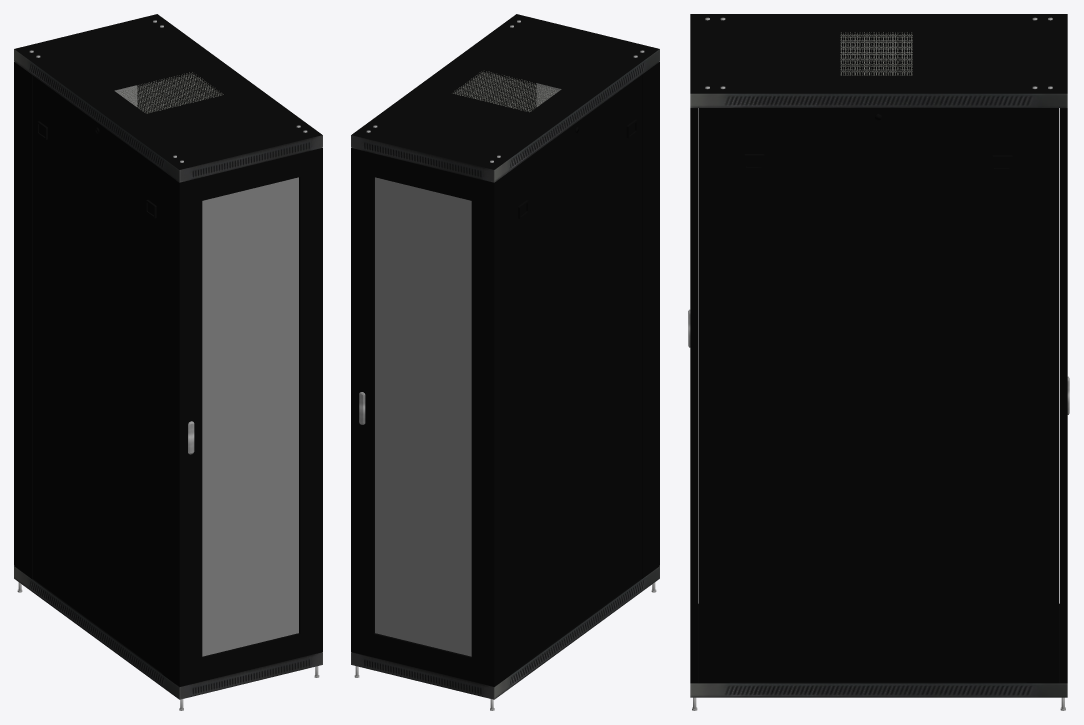
The model's file is RKBB47.fbx.
3 renders of one model, left to right at view 1: azimuth 30°, elevation 25°; view 2: azimuth 150°, elevation 25°; view 3: azimuth 270°, elevation 25°, orthographic. The views are drawn at different scales.
Parts seen in each view (by area): view 1: frontdoor, RKBB47, Box175, backdoor; view 2: backdoor, RKBB47, Box175, frontdoor; view 3: RKBB47, Box175, frontdoor, backdoor.
Part boxes in pixels (left/top/right/bottom): frontdoor: left=176, top=148, right=322, bottom=686; RKBB47: left=32, top=71, right=224, bottom=672; Box175: left=14, top=14, right=322, bottom=710; backdoor: left=14, top=62, right=155, bottom=567; backdoor: left=351, top=148, right=497, bottom=686; RKBB47: left=451, top=70, right=641, bottom=672; Box175: left=351, top=14, right=659, bottom=710; frontdoor: left=519, top=62, right=659, bottom=567; RKBB47: left=729, top=32, right=1026, bottom=682; Box175: left=690, top=14, right=1067, bottom=710; frontdoor: left=688, top=108, right=697, bottom=682; backdoor: left=1060, top=108, right=1069, bottom=682.
Bounding box in the file's own units: 610 × 2172 × 1213.
Materials: 6 (4 with a texture image).
